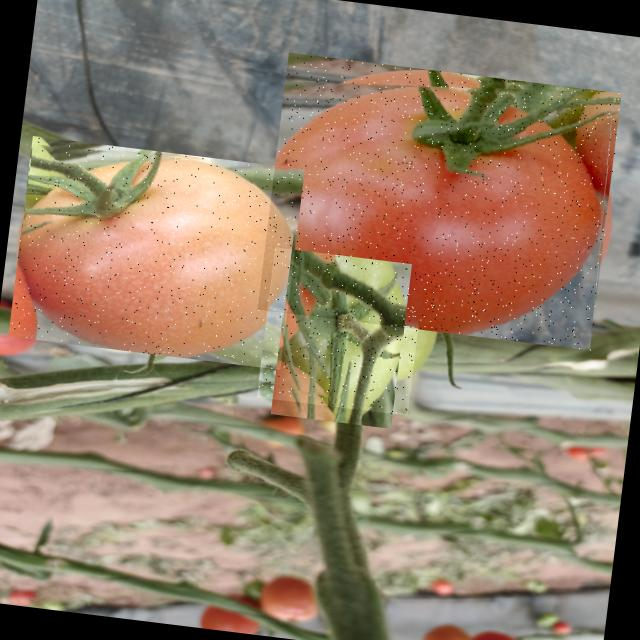Ripe Tomato: (257, 52, 622, 350), (8, 136, 304, 370)
Unripe Tomato: (256, 247, 426, 415)
